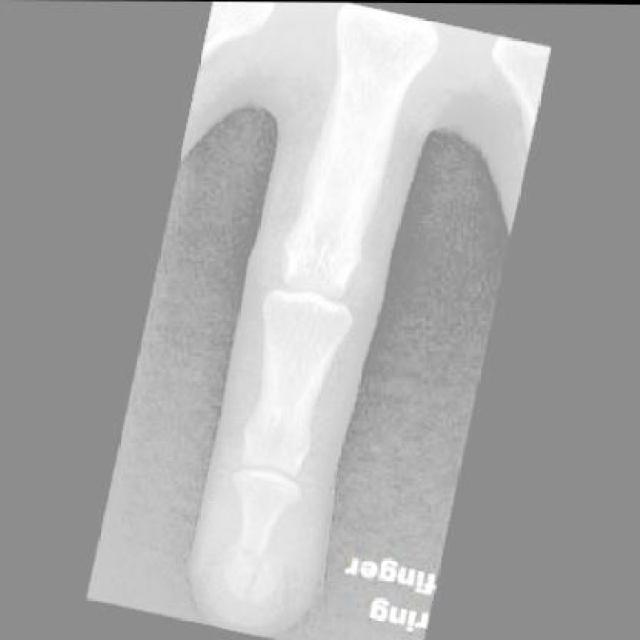Fracture: (217, 536, 291, 609)
